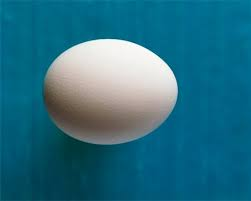eggs: (36, 35, 184, 137)
